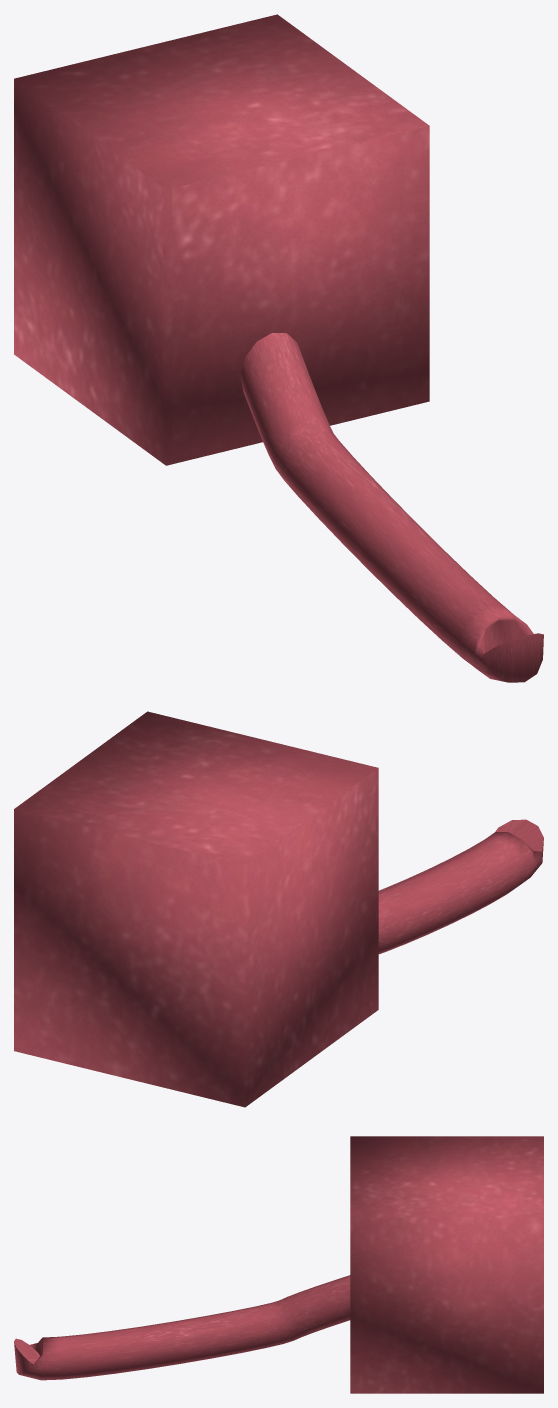
The model's file is Glandula bulbuorethralis.glb.
3 views of the same model, one above another, from view 1: azimuth 30°, elevation 25°; view 2: azimuth 150°, elevation 25°; view 3: azimuth 270°, elevation 25° (orthographic). The views are drawn at different scales.
Visible parts, largest first — view 1: Cube.002, Urethera.001; view 2: Cube.002, Urethera.001; view 3: Cube.002, Urethera.001.
Boxes of the visible parts, x1,y1,x2,y2 form: Cube.002: (14,14,429,465); Urethera.001: (240,333,543,682); Cube.002: (14,711,378,1107); Urethera.001: (378,819,543,954); Cube.002: (350,1136,543,1393); Urethera.001: (14,1275,350,1380).
Bounding box in the file's own units: 0.1308 × 0.1585 × 0.3578.
2 materials, 2 textured.
